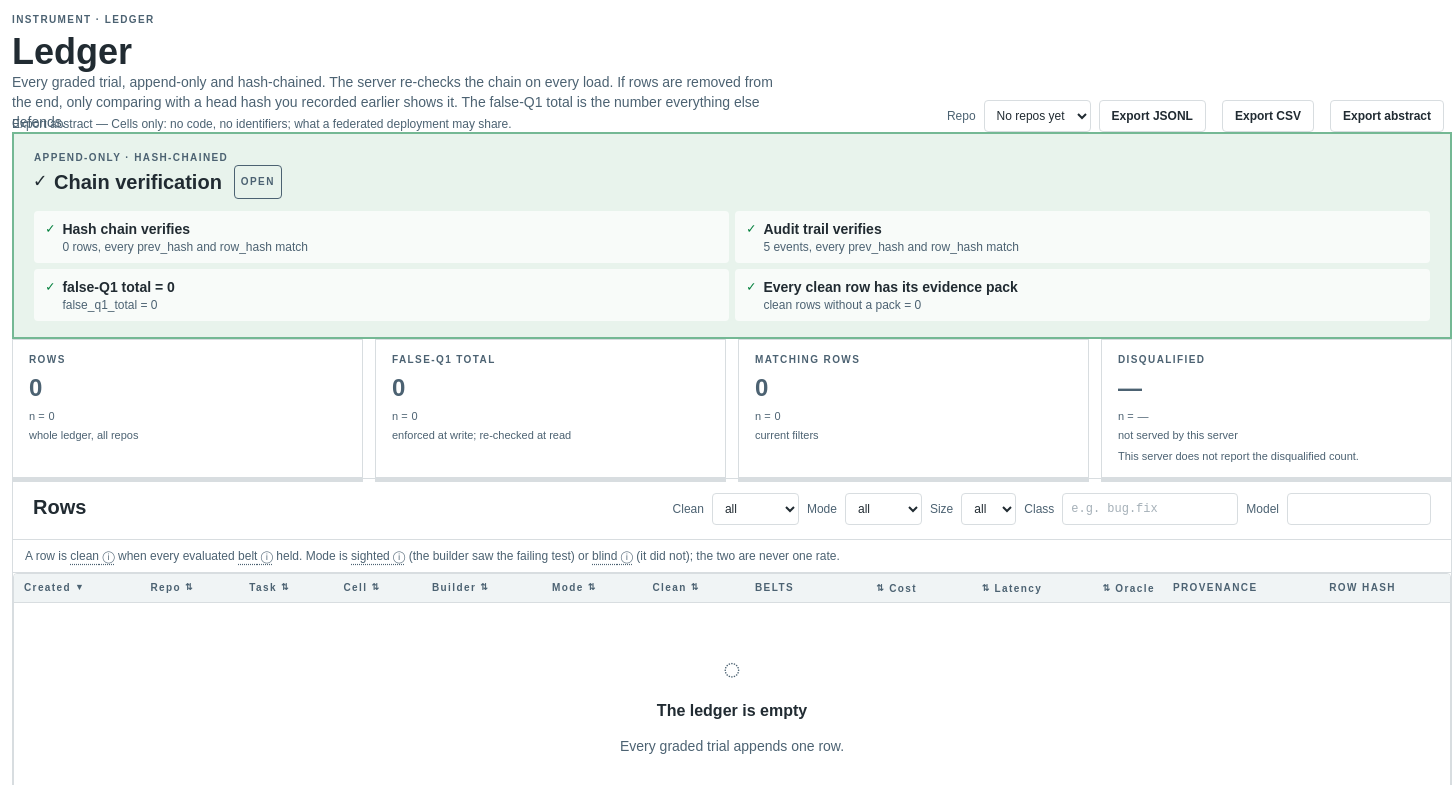
Test case: LedgerPage › a refused abstract export (409 false_q1_refused) is reported beside the button, not opened as a raw response
Step 1. Click the link "Export abstract" → x=1387, y=116, box [1330,100,1444,132]
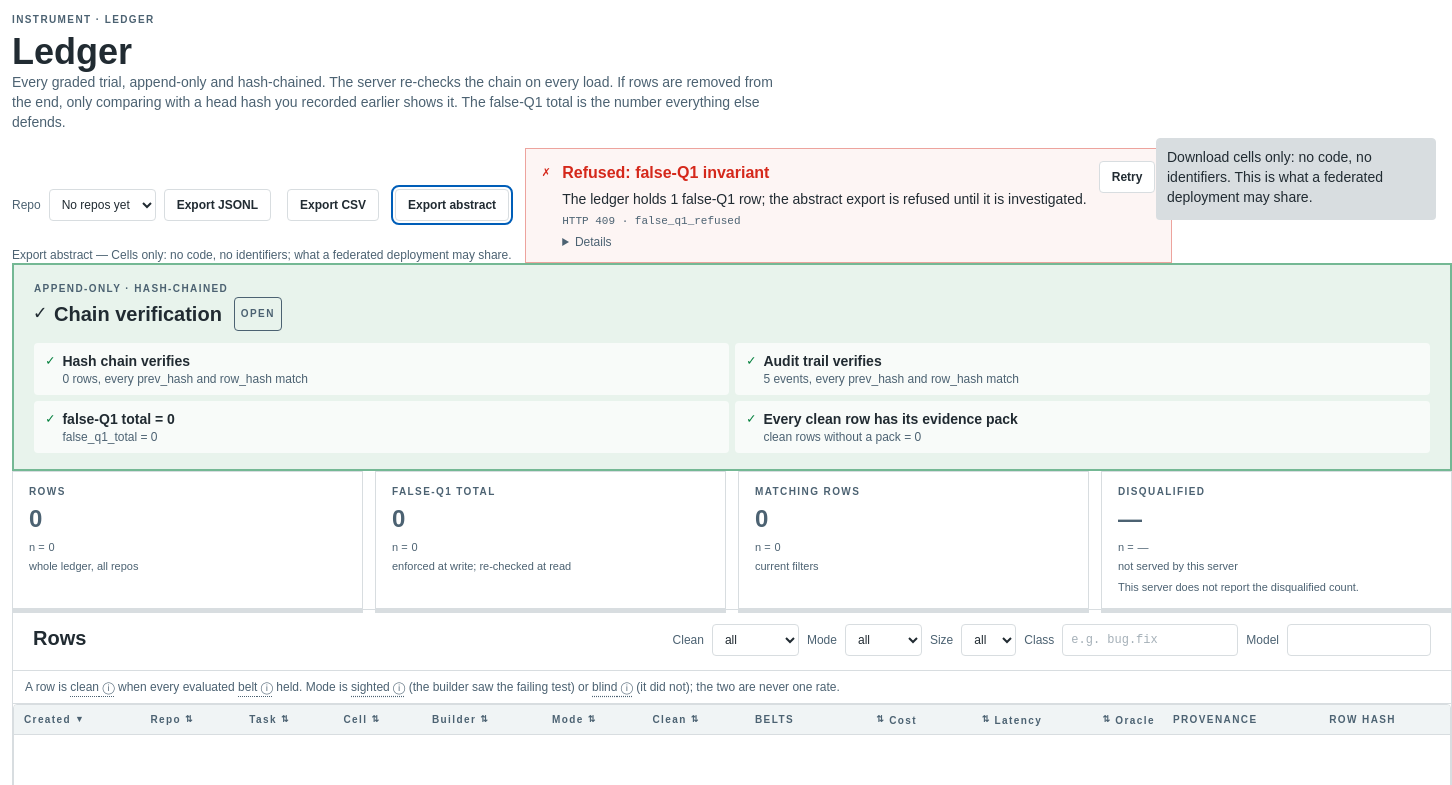
Expected: the message shows "Refused: false-Q1 invariant", [562,164,769,180]
Expected: the message shows "The ledger holds 1 false-Q1 row; the abstract export is refused until it is investigated.", [562,191,1087,207]
Expected: the message shows "HTTP 409 · false_q1_refused", [525,148,1172,263]
